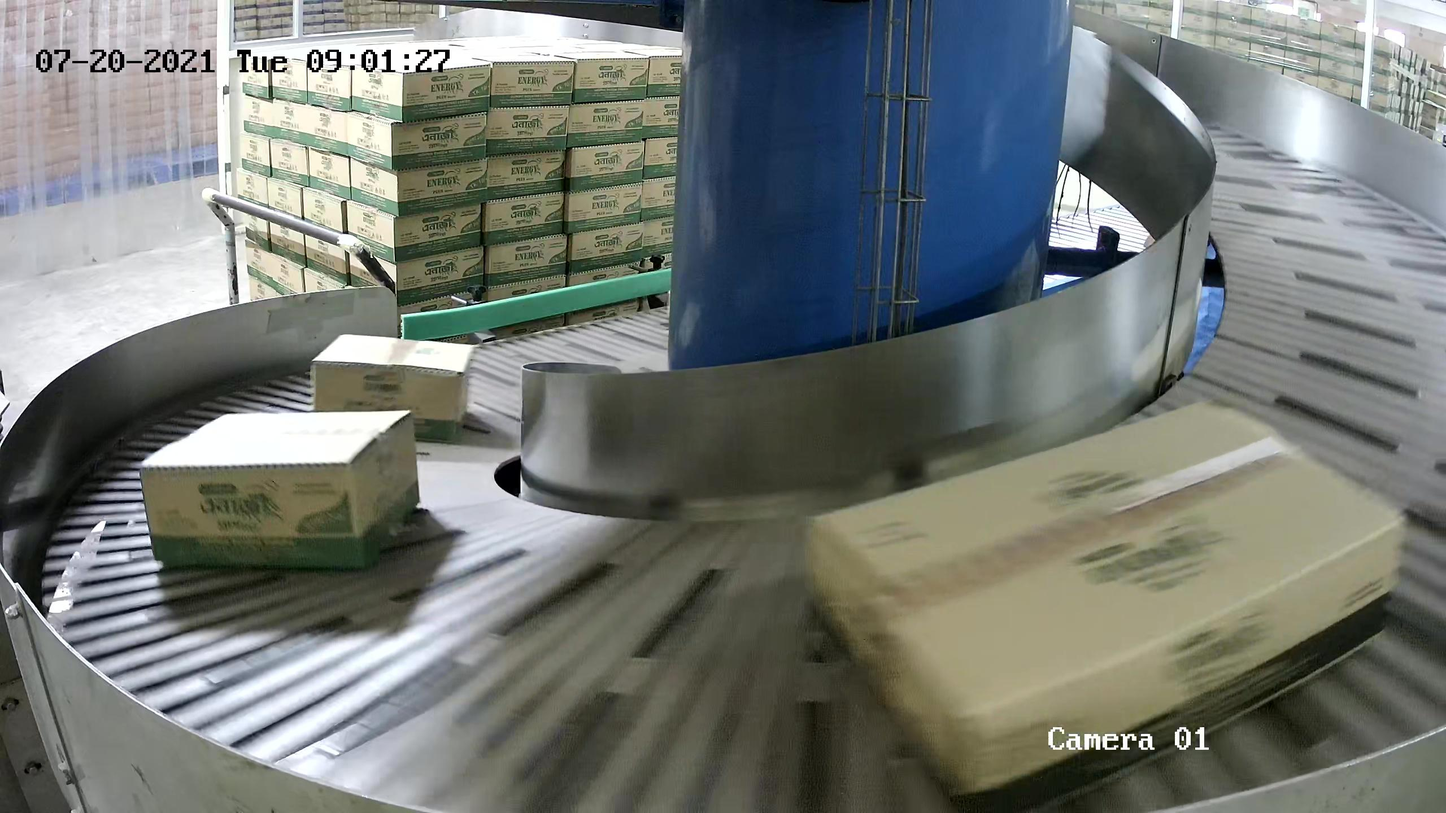Box: (804, 397, 1410, 813), (139, 409, 421, 572), (312, 333, 475, 444)
